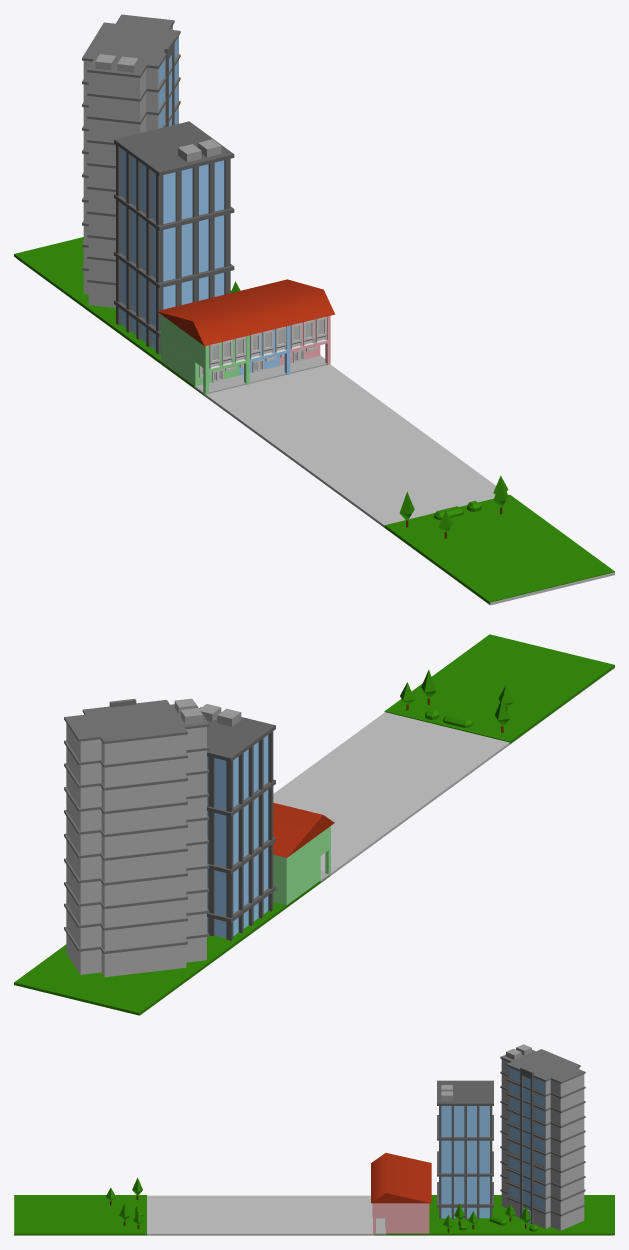
The model's file is Level 1 Chunk 3.fbx.
The picture shows the model from 3 angles, top to bottom: view 1: azimuth 30°, elevation 25°; view 2: azimuth 150°, elevation 25°; view 3: azimuth 270°, elevation 25°; orthographic projection. The views are drawn at different scales.
Parts seen in each view (by area): view 1: pCube1772, Building_A3, Building_C_Tallest7, Triple_shop_houses1, pCube1793, pCube1792; view 2: Building_C_Tallest7, pCube1772, Building_A3, pCube1793, pCube1792, Triple_shop_houses1; view 3: Building_C_Tallest7, pCube1772, Building_A3, pCube1793, Triple_shop_houses1, pCube1792.
Part boxes in pixels (x1,y1,x2,y2): pCube1772: (16,258,614,605); Building_A3: (114,121,234,354); Building_C_Tallest7: (82,14,180,307); Triple_shop_houses1: (157,279,335,395); pCube1793: (384,494,614,604); pCube1792: (14,237,230,395); Building_C_Tallest7: (64,698,209,977); pCube1772: (141,667,614,1014); Building_A3: (199,704,275,940); pCube1793: (384,634,614,743); pCube1792: (14,875,330,1015); Triple_shop_houses1: (273,802,334,905); Building_C_Tallest7: (500,1044,585,1230); pCube1772: (14,1195,612,1235); Building_A3: (437,1080,493,1219); pCube1793: (14,1195,146,1235); Triple_shop_houses1: (371,1153,431,1234); pCube1792: (374,1195,614,1235).
Size of the model in its own units: 6.39 by 11.51 by 40.27.
1 material, 1 textured.
